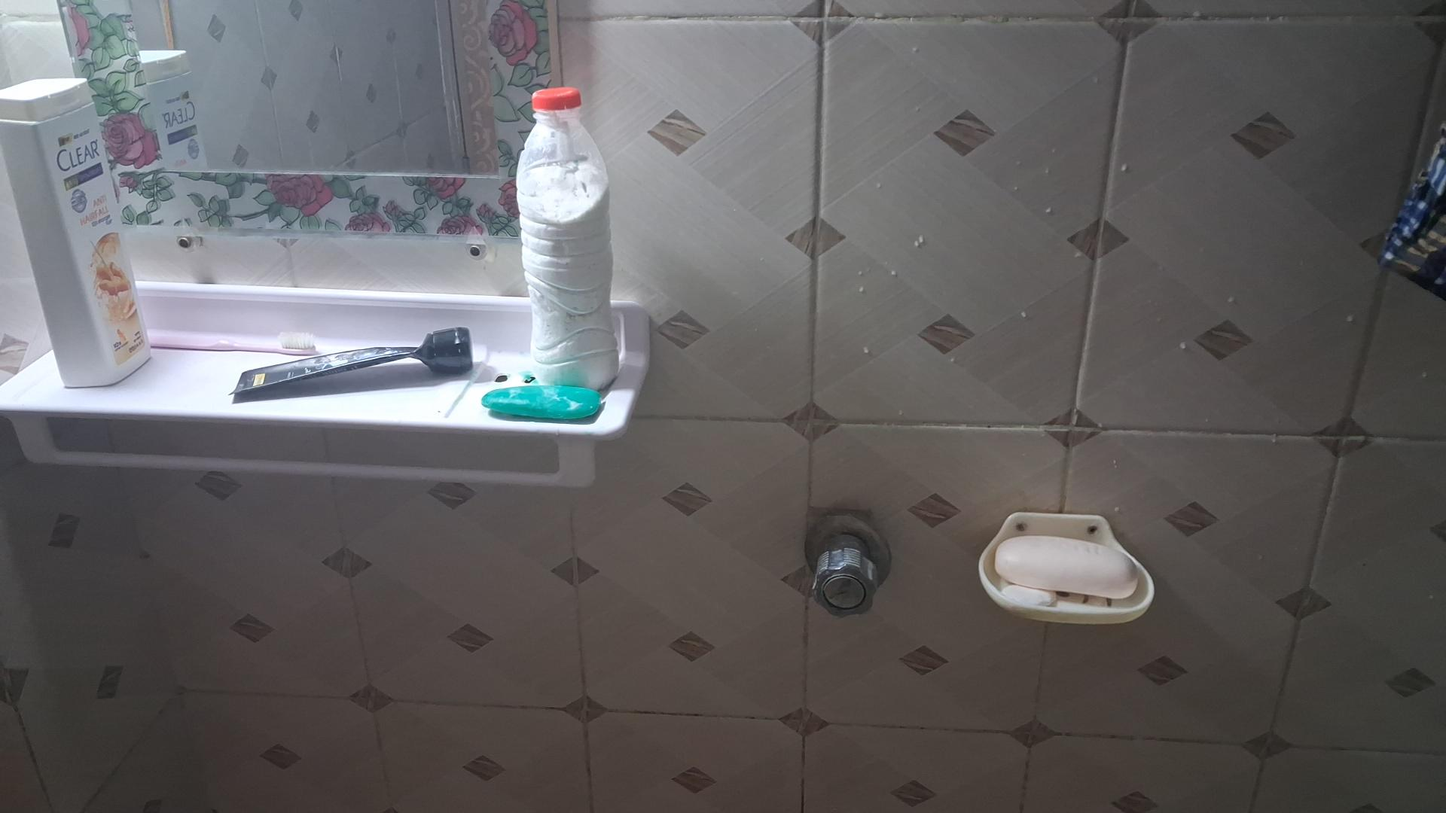Bottle: (3, 71, 152, 387), (516, 86, 619, 393)
Soap: (996, 529, 1136, 605), (484, 386, 605, 430)
